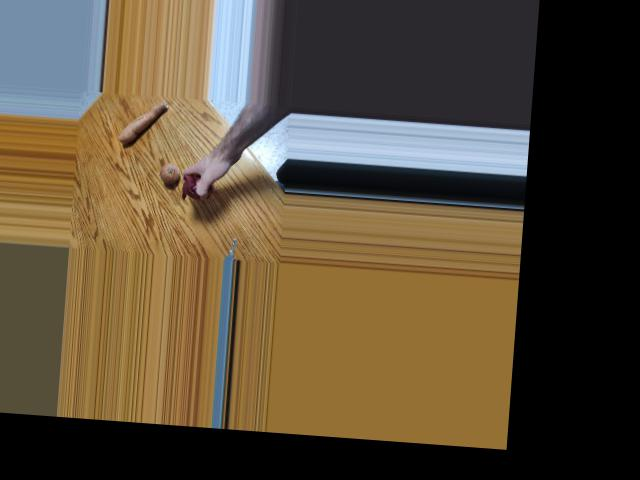onion: (160, 155, 188, 182)
